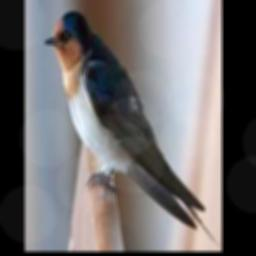Swallow: (44, 10, 219, 246)
